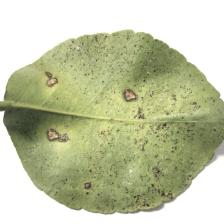canker: (89, 52, 202, 168)
